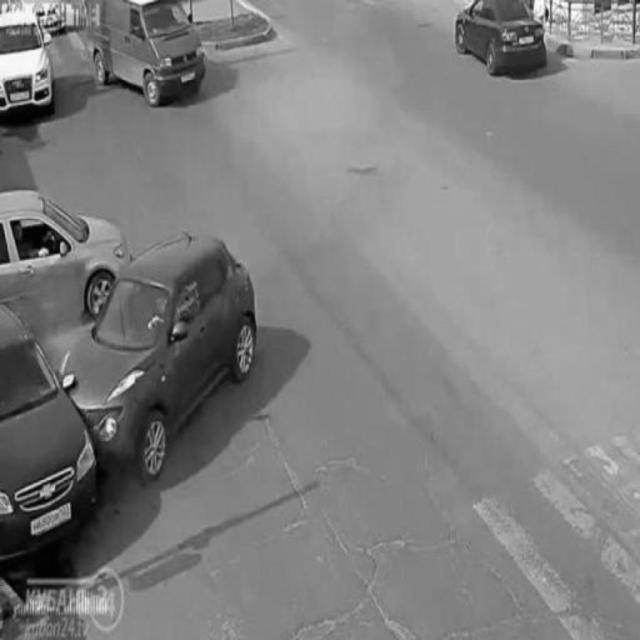accident: (2, 239, 254, 537)
vehicle: (0, 189, 122, 301), (87, 0, 208, 98), (456, 1, 549, 74), (1, 14, 57, 115)
